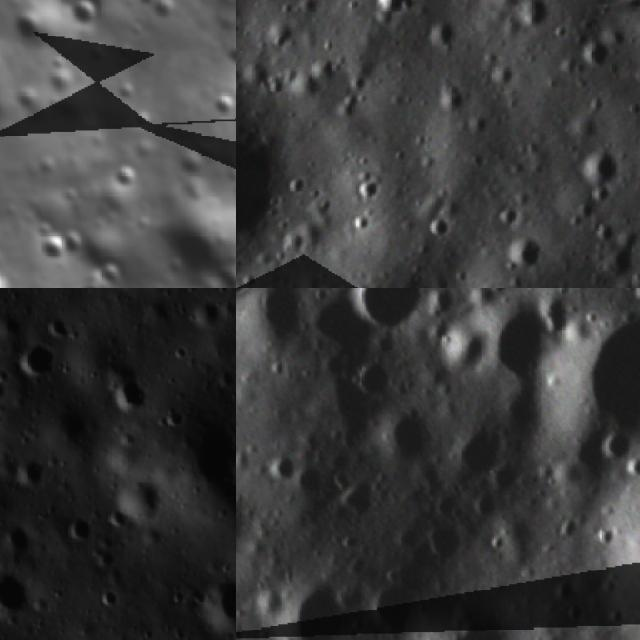crater: (532, 288, 640, 479), (442, 288, 580, 407), (236, 97, 306, 270), (256, 563, 371, 640), (333, 288, 456, 353), (441, 400, 525, 487), (349, 562, 436, 640), (236, 0, 304, 99), (368, 394, 450, 475), (412, 593, 533, 640), (432, 316, 502, 384), (342, 346, 408, 412), (30, 212, 93, 270), (252, 435, 312, 495), (585, 419, 640, 483), (424, 67, 478, 122), (501, 225, 556, 277), (290, 454, 342, 509), (578, 144, 630, 196), (101, 152, 150, 206), (560, 97, 612, 145), (415, 7, 463, 59), (509, 0, 566, 43), (347, 165, 394, 210), (70, 255, 133, 288), (572, 26, 618, 71), (199, 575, 236, 629), (270, 216, 314, 261), (263, 12, 308, 56), (109, 483, 155, 524), (11, 340, 52, 385), (60, 0, 111, 36), (488, 192, 529, 232), (360, 0, 423, 26), (422, 206, 462, 246), (0, 566, 29, 617), (346, 204, 382, 241), (278, 167, 316, 202), (112, 379, 149, 412), (2, 527, 39, 555), (63, 505, 89, 542), (294, 0, 334, 24), (21, 460, 49, 490), (307, 274, 353, 288), (229, 449, 236, 486)
